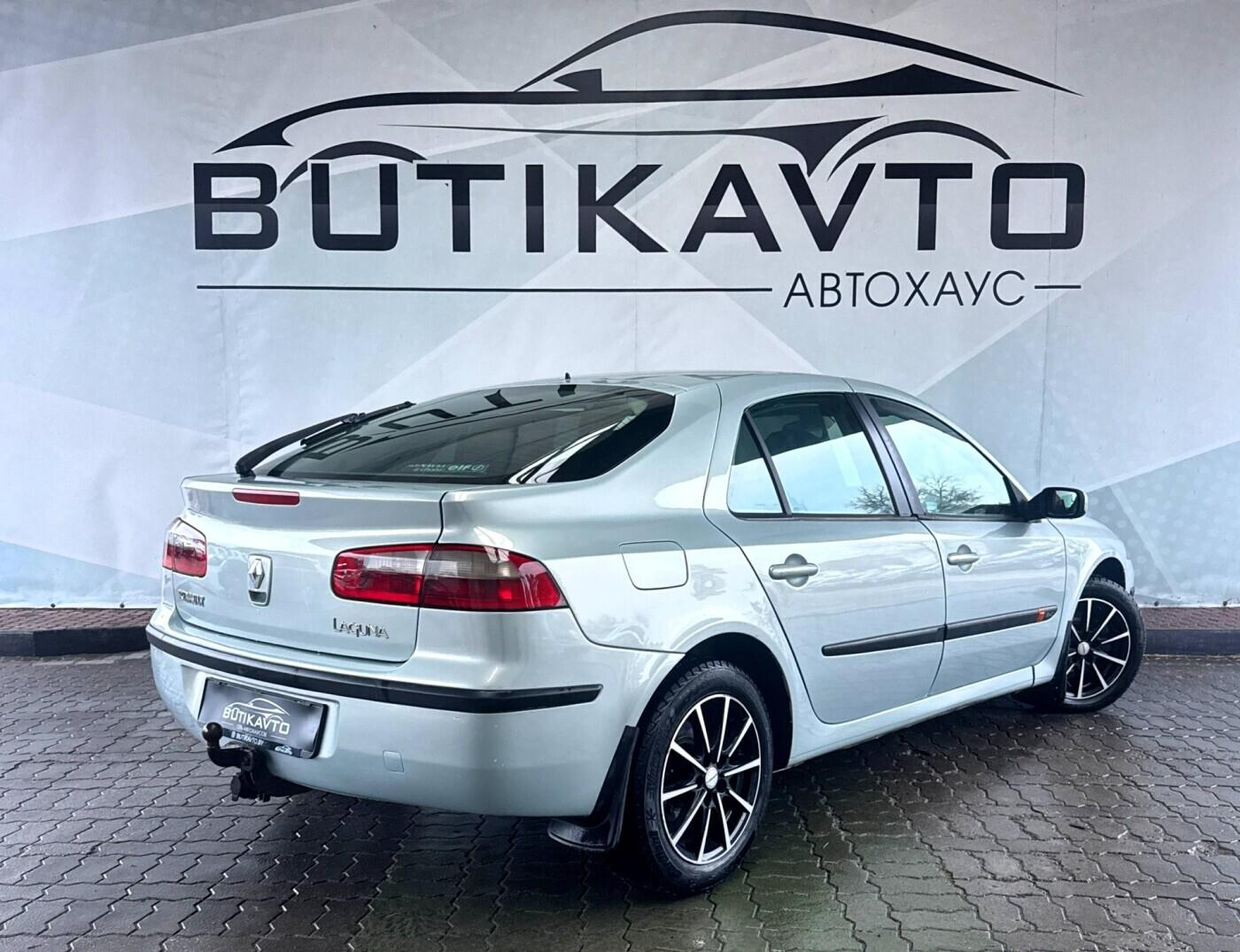Laguna_2001-2005: (148, 371, 1143, 894)
